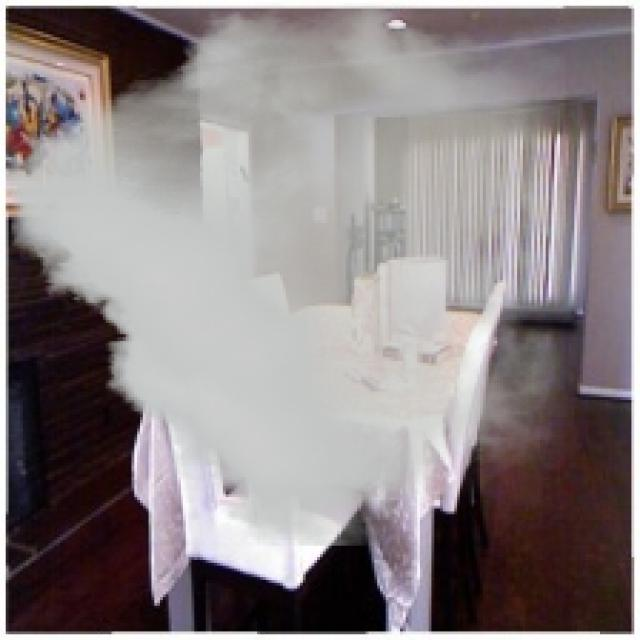smoke: (11, 3, 566, 546)
